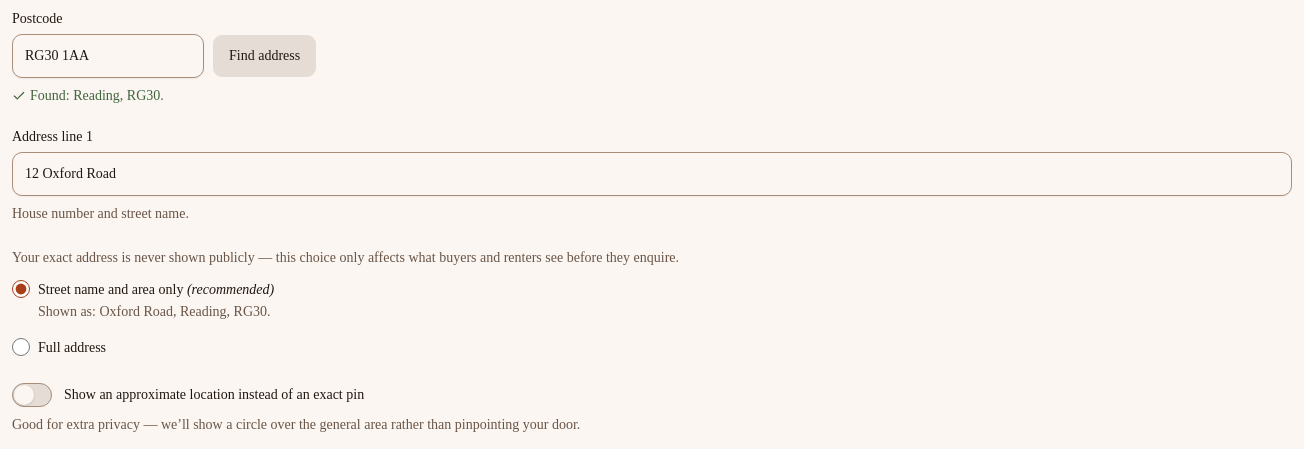
Scenario: StepAddress › switching to "Full address" recomputes the preview with the house number and full postcode
The width and height of the screenshot is (1304, 449).
What coordinates should you click on to do the following:
click the radio button labelled "Full address"
I would click on:
 (21, 347)
Its box is [12, 338, 30, 356].
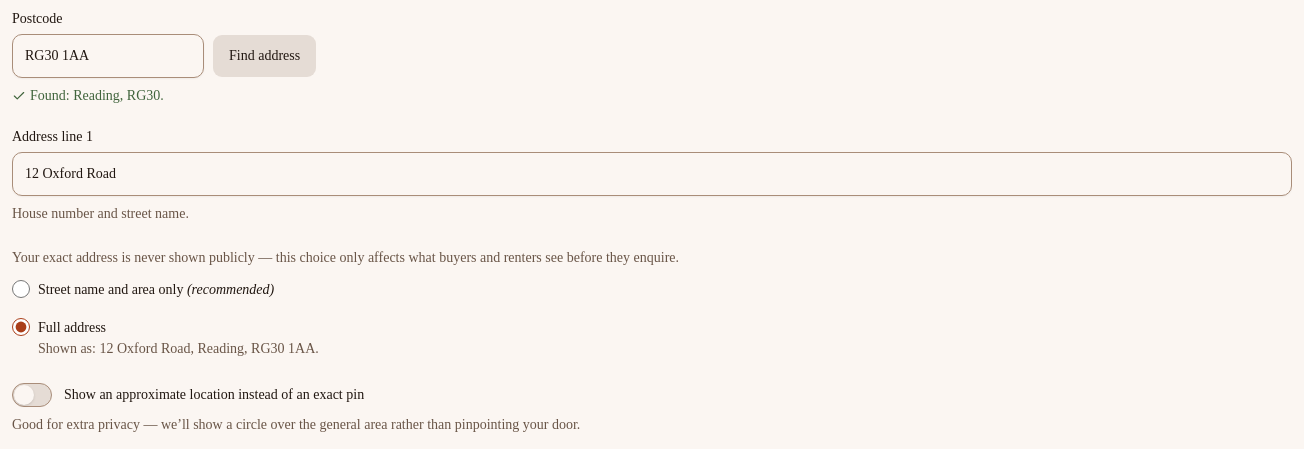
Expected: the text "Shown as: 12 Oxford Road, Reading, RG30 1AA." is shown, [38, 339, 319, 359]
